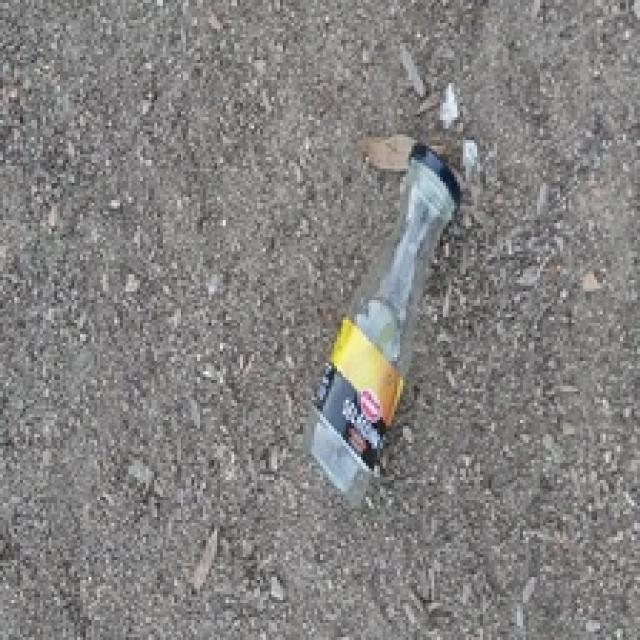Glass: (306, 158, 458, 512)
